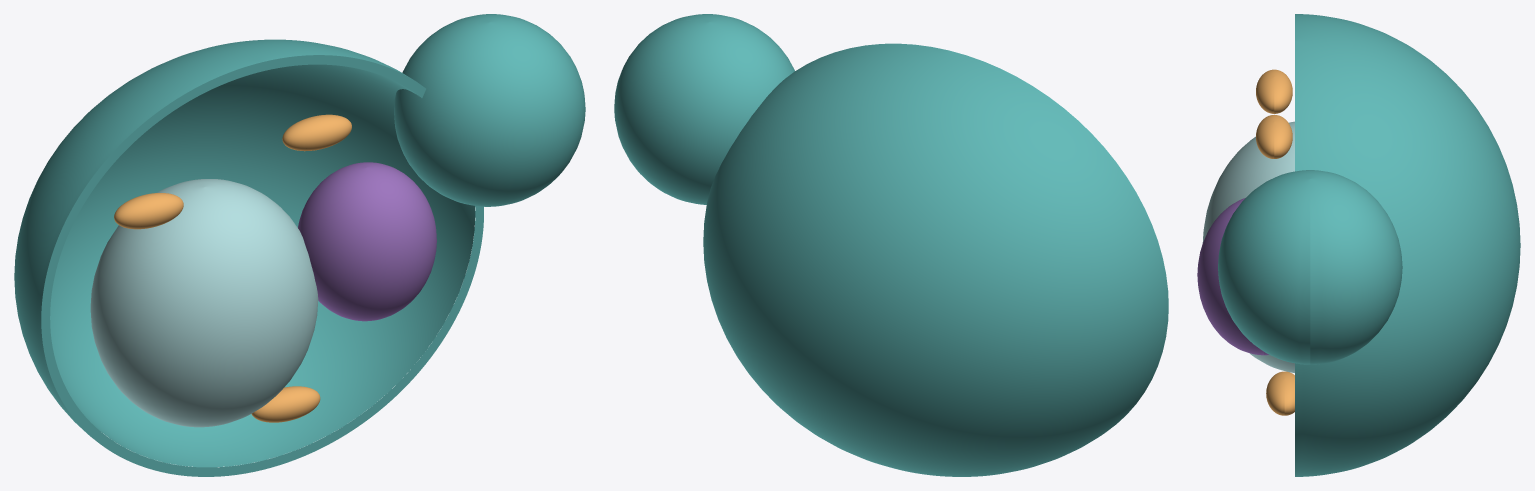
The model's file is bio3d2-yeast.glb.
The picture shows the model from 3 angles, left to right: view 1: azimuth 30°, elevation 25°; view 2: azimuth 150°, elevation 25°; view 3: azimuth 270°, elevation 25°; orthographic projection.
Parts seen in each view (by area): view 1: Mother-cell wall cutaway; 5 um across X, Vacuole (illustrative), Early daughter bud, Nucleus (illustrative), Mitochondria (illustrative); view 2: Mother-cell wall cutaway; 5 um across X, Early daughter bud; view 3: Mother-cell wall cutaway; 5 um across X, Early daughter bud, Mitochondria (illustrative), Vacuole (illustrative), Nucleus (illustrative).
Boxes of the visible parts, x1,y1,x2,y2 form: Mother-cell wall cutaway; 5 um across X: [14, 39, 483, 476]; Vacuole (illustrative): [90, 179, 318, 427]; Early daughter bud: [394, 14, 585, 206]; Nucleus (illustrative): [298, 162, 436, 321]; Mitochondria (illustrative): [114, 114, 351, 422]; Mother-cell wall cutaway; 5 um across X: [703, 43, 1168, 476]; Early daughter bud: [614, 14, 794, 204]; Mother-cell wall cutaway; 5 um across X: [1295, 14, 1520, 476]; Early daughter bud: [1218, 170, 1402, 364]; Mitochondria (illustrative): [1256, 69, 1294, 415]; Vacuole (illustrative): [1202, 121, 1294, 372]; Nucleus (illustrative): [1197, 198, 1269, 355].
Size of the model in its own units: 6.1 by 4.4 by 3.15.
